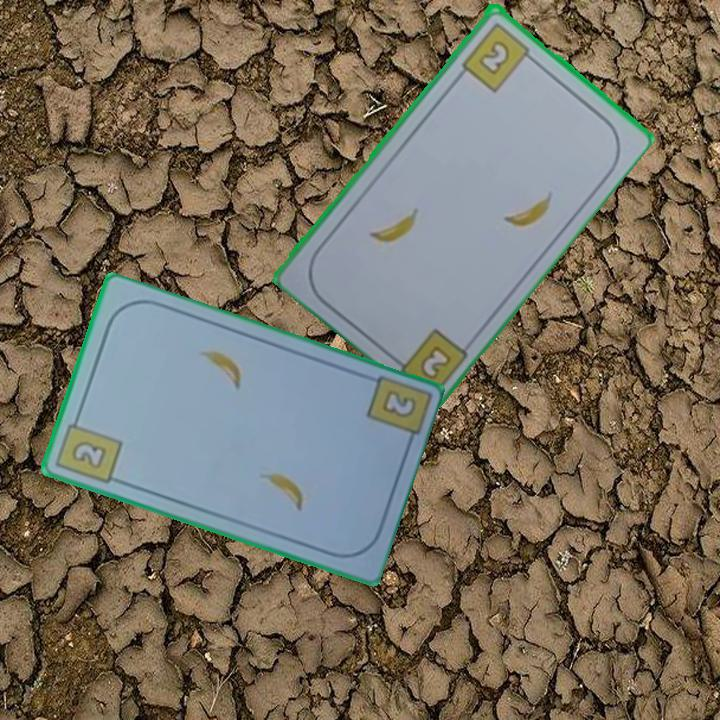2b: (458, 18, 538, 94), (53, 409, 125, 487), (416, 341, 455, 382), (377, 386, 419, 421)
